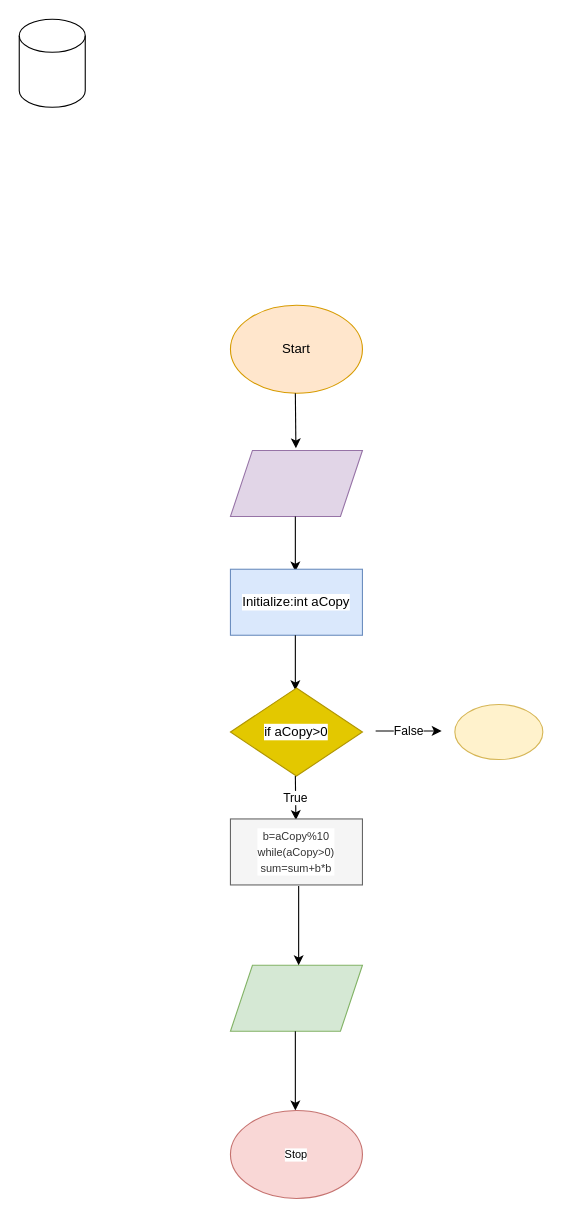
The diagram is 562 pixels wide and 1218 high, and some of its shapes have lost their labels. Each missing label, with the centre of its shape:
End: point 498,731
Input : int a: point 295,482
print sum: point 295,997
